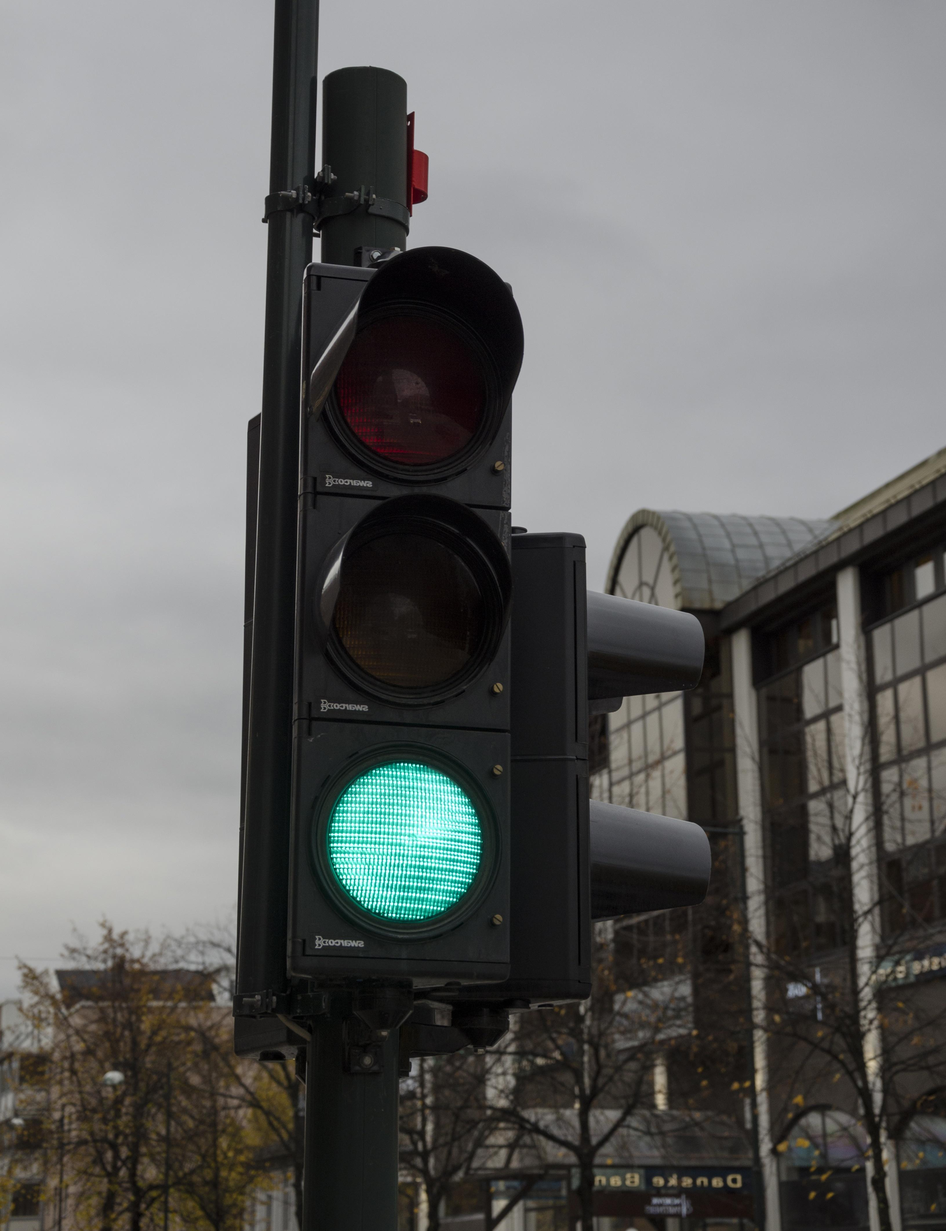green: (272, 261, 533, 991)
